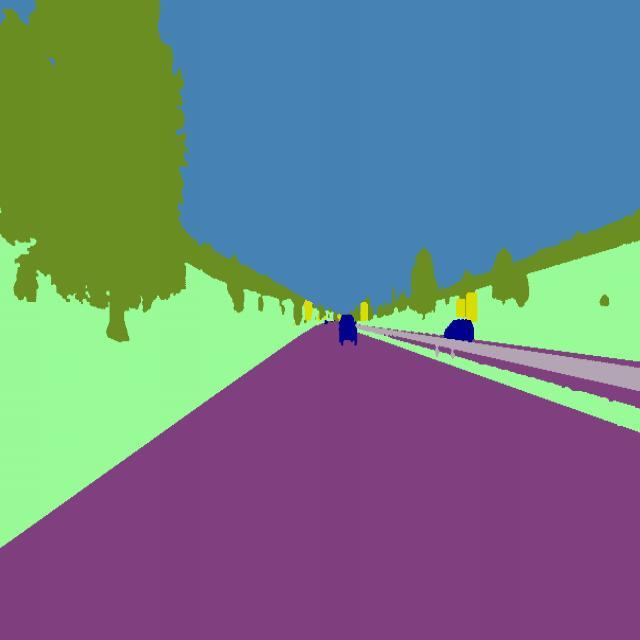safe: (440, 313, 478, 347), (335, 310, 362, 350)
